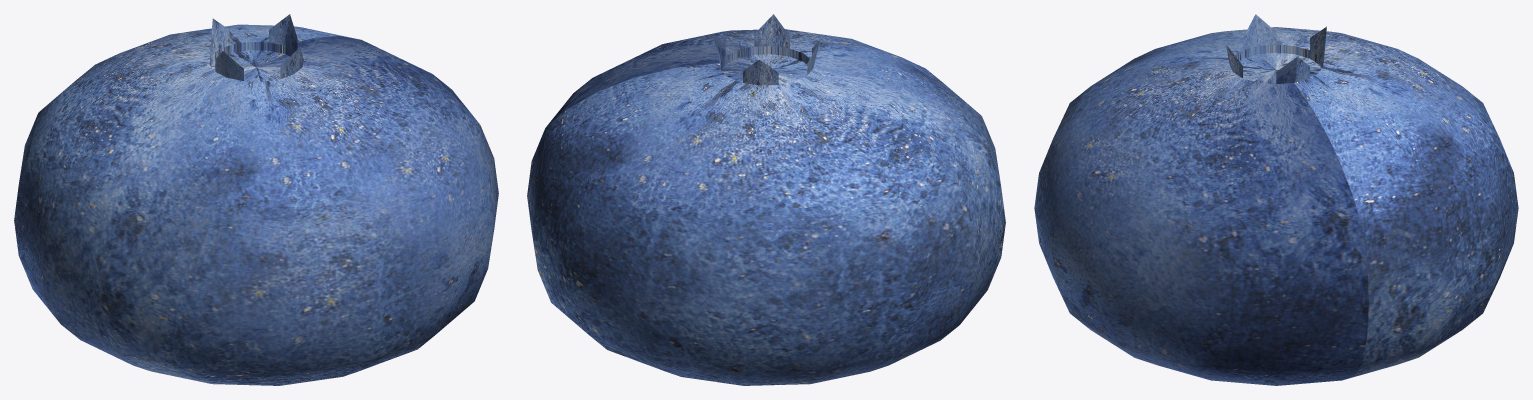
The model's file is blueberry.fbx.
The picture shows the model from 3 angles, left to right: view 1: azimuth 30°, elevation 25°; view 2: azimuth 150°, elevation 25°; view 3: azimuth 270°, elevation 25°; orthographic projection.
Parts seen in each view (by area): view 1: Blueberry; view 2: Blueberry; view 3: Blueberry.
Part boxes in pixels (x1=…): Blueberry: x1=14, y1=14, x2=498, y2=385; Blueberry: x1=527, y1=14, x2=1005, y2=385; Blueberry: x1=1034, y1=14, x2=1518, y2=385.
Bounding box in the file's own units: 0.0993 × 0.0704 × 0.0993.
Materials: 1 (1 with a texture image).
